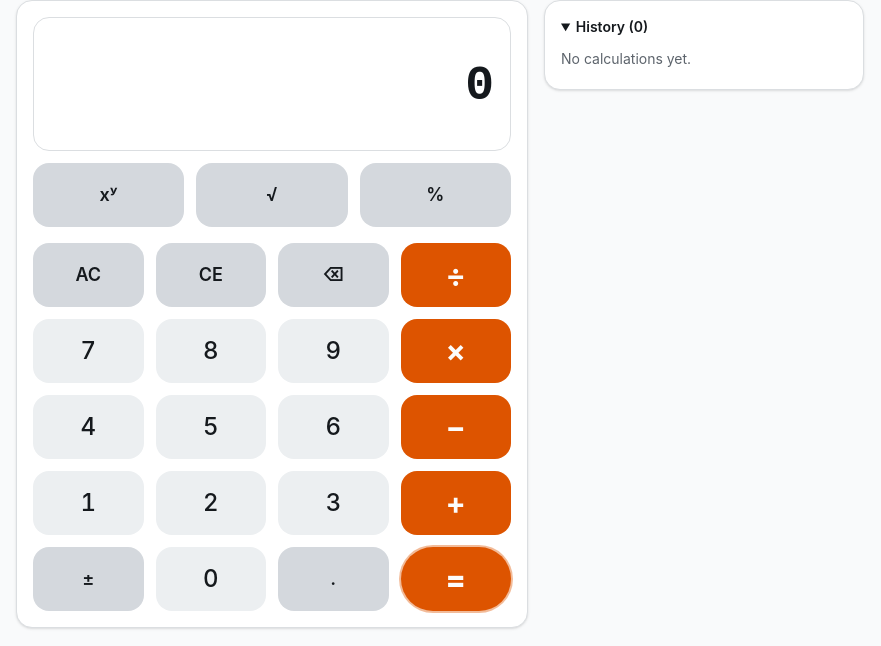
Calculator › shows the mapped message for a division by zero and clears it on the next digit
Click the button "1": (88, 503) [33,471,144,535]
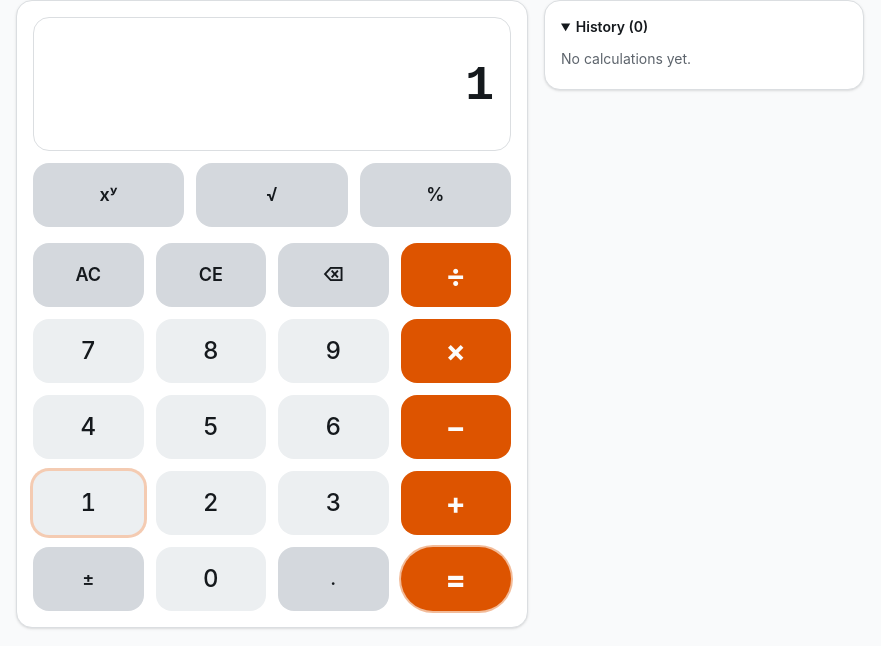
Click the button "2": (211, 503) [156,471,266,535]
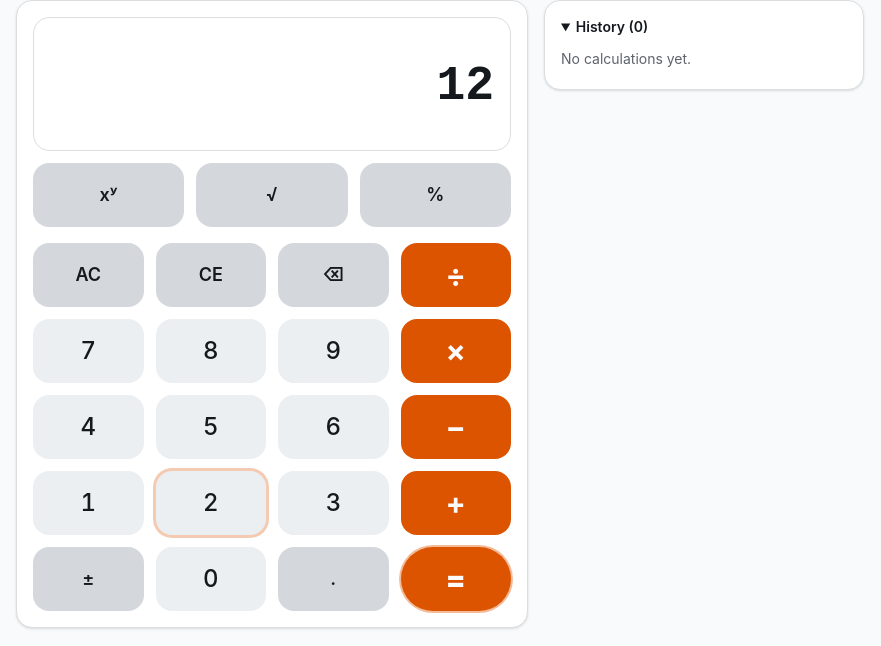
Click the button named "divide": (456, 275) [400,243,511,307]
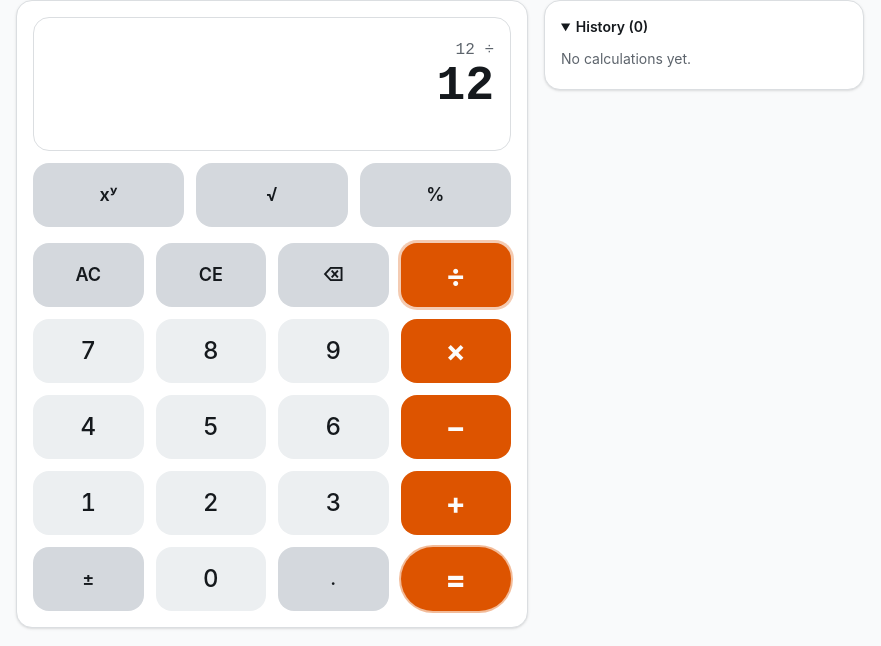
Click the button "0": (211, 579) [156,547,266,611]
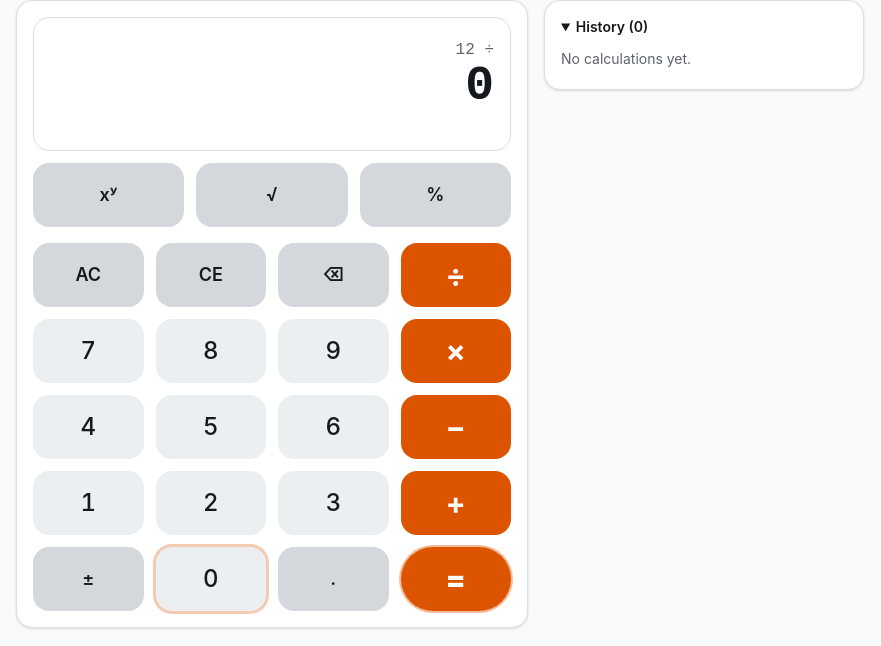
Click the button named "equals": (456, 579) [400,547,511,611]
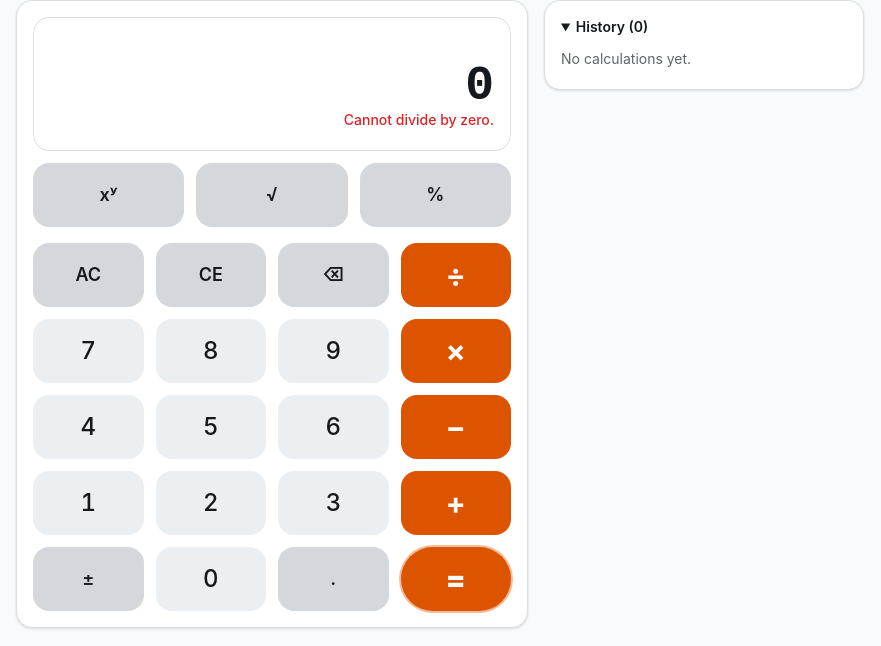
Check: the message reads "Cannot divide by zero.", box [344,111,494,128]
Click the button "5": (211, 427) [156,395,266,459]
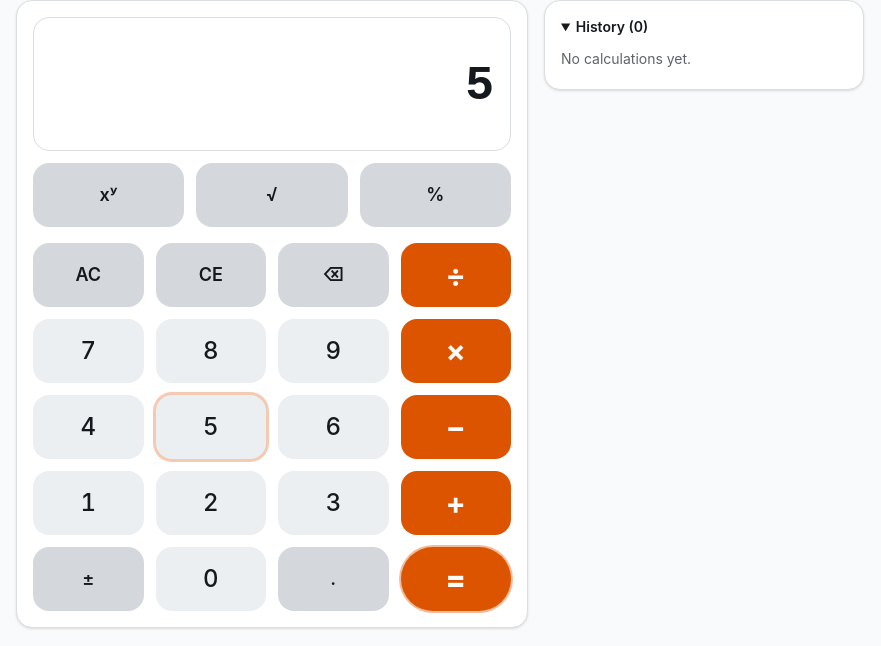
Check: the message is empty, box [50,110,494,130]
Check: the text "5" is shown, box [465,62,494,110]
